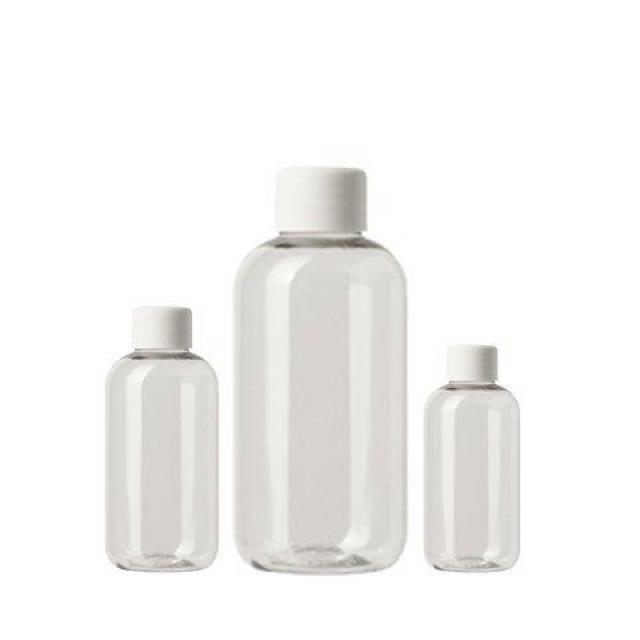plastic_bottle: (237, 174, 406, 569), (102, 310, 226, 568), (428, 350, 526, 571)
